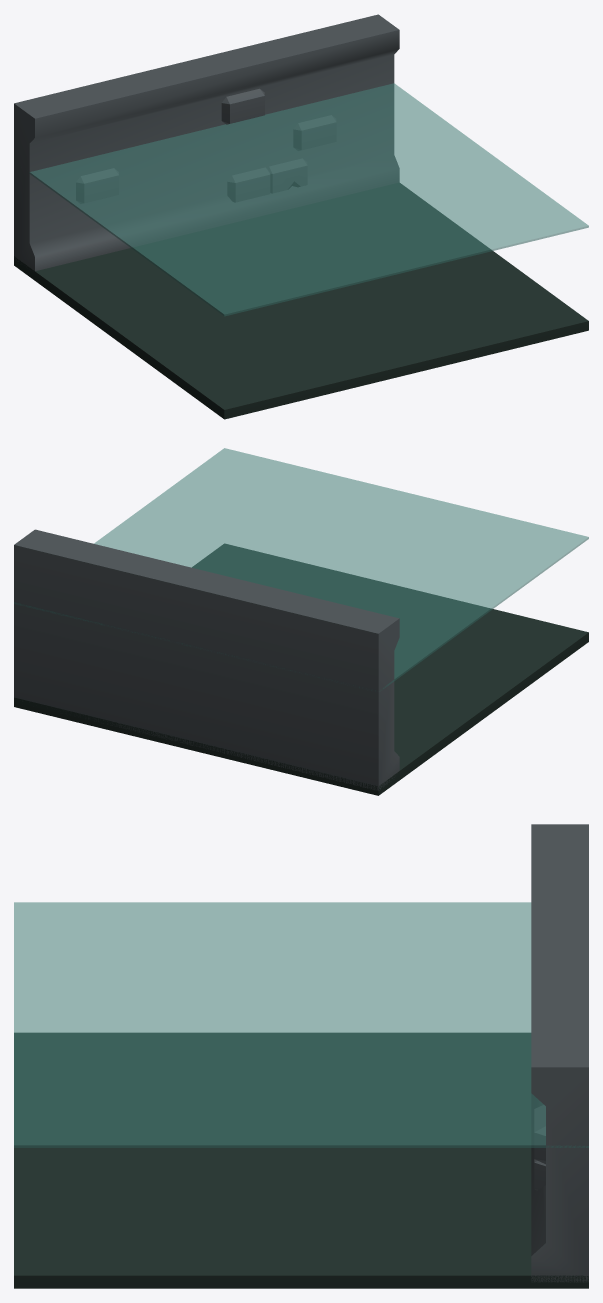
File: floor_pool_edge_A.glb
The picture shows the model from 3 angles, top to bottom: view 1: azimuth 30°, elevation 25°; view 2: azimuth 150°, elevation 25°; view 3: azimuth 270°, elevation 25°; orthographic projection. The views are drawn at different scales.
Parts seen in each view (by area): view 1: Item; view 2: Item; view 3: Item.
Part boxes in pixels (x1,y1,x2,y2): Item: [14, 14, 588, 419]; Item: [14, 448, 588, 795]; Item: [14, 824, 588, 1288].
Size of the model in its own units: 4 by 1.7 by 4.
Materials: 3 (3 with a texture image).
